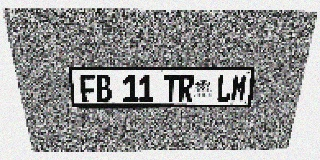1: (122, 75, 138, 102), (138, 75, 153, 102)
B: (95, 75, 112, 102)
F: (79, 75, 97, 102)
L: (216, 75, 233, 102)
M: (230, 75, 248, 102)
R: (178, 75, 194, 102)
T: (164, 75, 179, 102)
